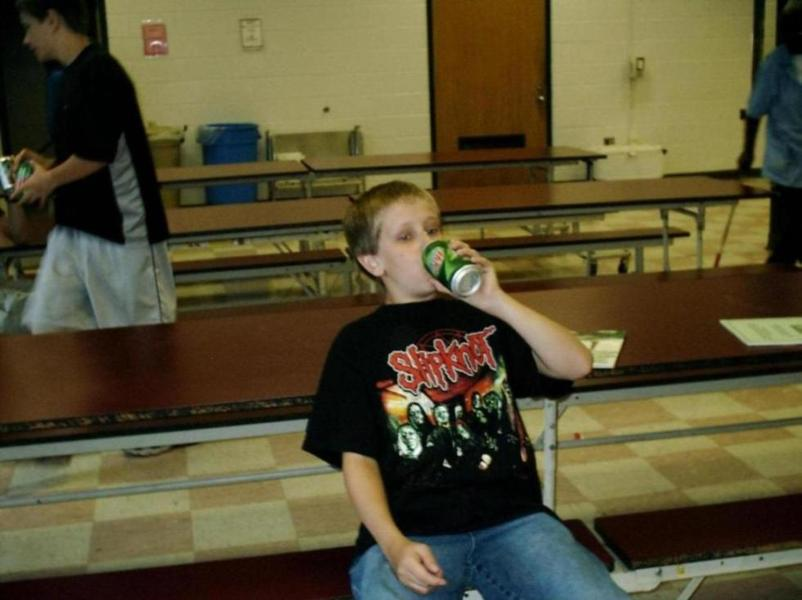person: (302, 180, 636, 599)
